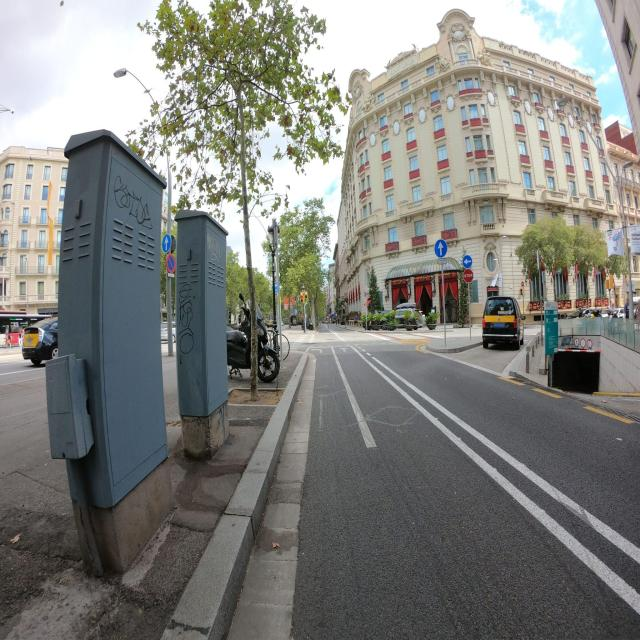forb_stopping: (166, 254, 176, 274)
